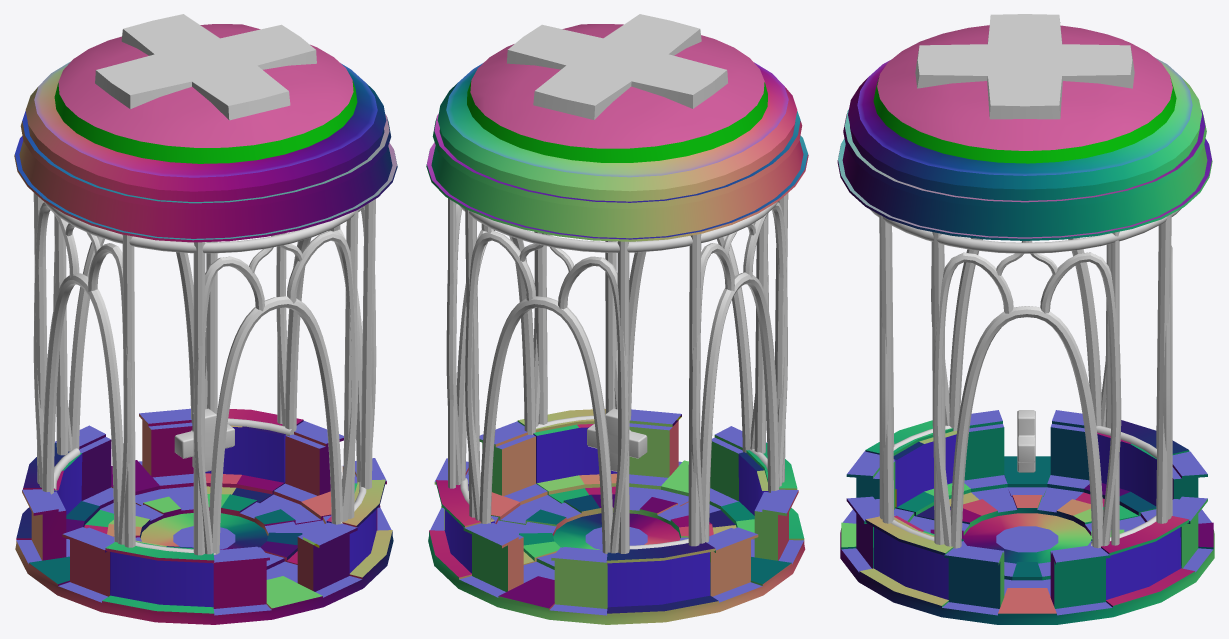
File: healingtrap.fbx
3 views of the same model, side by side, from view 1: azimuth 30°, elevation 25°; view 2: azimuth 150°, elevation 25°; view 3: azimuth 270°, elevation 25° (orthographic).
Parts seen in each view (by area): view 1: pCube4, polySurface30, polySurface8.001, polySurface29, pCube1, pCylinder11; view 2: pCube4, polySurface30, polySurface8.001, polySurface29, pCube1, pCylinder11; view 3: pCube4, polySurface30, polySurface8.001, polySurface29, pCube1, pCylinder11.
Boxes of the visible parts, x1,y1,x2,y2 form: pCube4: [15, 408, 393, 624]; polySurface30: [14, 24, 397, 242]; polySurface8.001: [33, 192, 376, 555]; polySurface29: [95, 14, 316, 120]; pCube1: [174, 408, 234, 471]; pCylinder11: [54, 418, 366, 554]; pCube4: [428, 409, 805, 624]; polySurface30: [426, 24, 808, 241]; polySurface8.001: [446, 193, 788, 553]; polySurface29: [507, 14, 727, 119]; pCube1: [587, 408, 647, 471]; pCylinder11: [460, 415, 767, 549]; pCube4: [840, 410, 1214, 624]; polySurface30: [837, 25, 1212, 240]; polySurface8.001: [869, 208, 1181, 548]; polySurface29: [915, 14, 1134, 119]; pCube1: [1017, 410, 1035, 472]; pCylinder11: [879, 425, 1156, 545].
Bounding box in the file's own units: 5.2 × 7.47 × 5.23.
